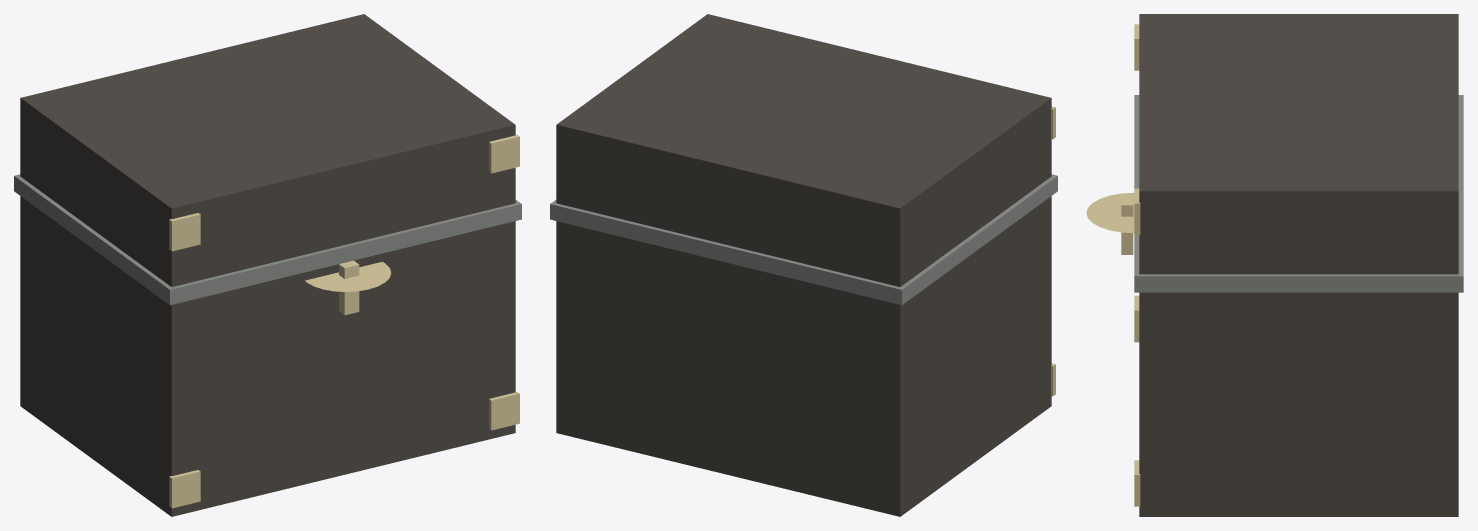
Rendered from prop_lacquer_chest.glb.
3 renders of one model, left to right at view 1: azimuth 30°, elevation 25°; view 2: azimuth 150°, elevation 25°; view 3: azimuth 270°, elevation 25°, orthographic. The views are drawn at different scales.
Visible parts, largest first — view 1: prop_lacquer_chest/lacquer_chest_body_00000, prop_lacquer_chest/lacquer_lid_trim_00001, prop_lacquer_chest/chest_brass_faceplate_00002, prop_lacquer_chest/chest_corner_brace_00004, prop_lacquer_chest/chest_corner_brace_00005, prop_lacquer_chest/chest_corner_brace_00006, prop_lacquer_chest/chest_corner_brace_00007, prop_lacquer_chest/chest_padlock_hasp_00003; view 2: prop_lacquer_chest/lacquer_chest_body_00000, prop_lacquer_chest/lacquer_lid_trim_00001; view 3: prop_lacquer_chest/lacquer_chest_body_00000, prop_lacquer_chest/lacquer_lid_trim_00001, prop_lacquer_chest/chest_brass_faceplate_00002, prop_lacquer_chest/chest_padlock_hasp_00003.
Part boxes in pixels (x1,y1,x2,y2): prop_lacquer_chest/lacquer_chest_body_00000: [20, 14, 515, 516]; prop_lacquer_chest/lacquer_lid_trim_00001: [14, 174, 521, 305]; prop_lacquer_chest/chest_brass_faceplate_00002: [305, 261, 391, 291]; prop_lacquer_chest/chest_corner_brace_00004: [169, 470, 200, 508]; prop_lacquer_chest/chest_corner_brace_00005: [169, 213, 200, 251]; prop_lacquer_chest/chest_corner_brace_00006: [489, 391, 519, 430]; prop_lacquer_chest/chest_corner_brace_00007: [489, 134, 519, 173]; prop_lacquer_chest/chest_padlock_hasp_00003: [339, 260, 359, 315]; prop_lacquer_chest/lacquer_chest_body_00000: [556, 14, 1051, 516]; prop_lacquer_chest/lacquer_lid_trim_00001: [550, 174, 1057, 305]; prop_lacquer_chest/lacquer_chest_body_00000: [1139, 14, 1458, 516]; prop_lacquer_chest/lacquer_lid_trim_00001: [1134, 95, 1463, 292]; prop_lacquer_chest/chest_brass_faceplate_00002: [1086, 192, 1134, 233]; prop_lacquer_chest/chest_padlock_hasp_00003: [1121, 197, 1133, 254].
Size of the model in its own units: 0.43 by 0.36 by 0.378.
